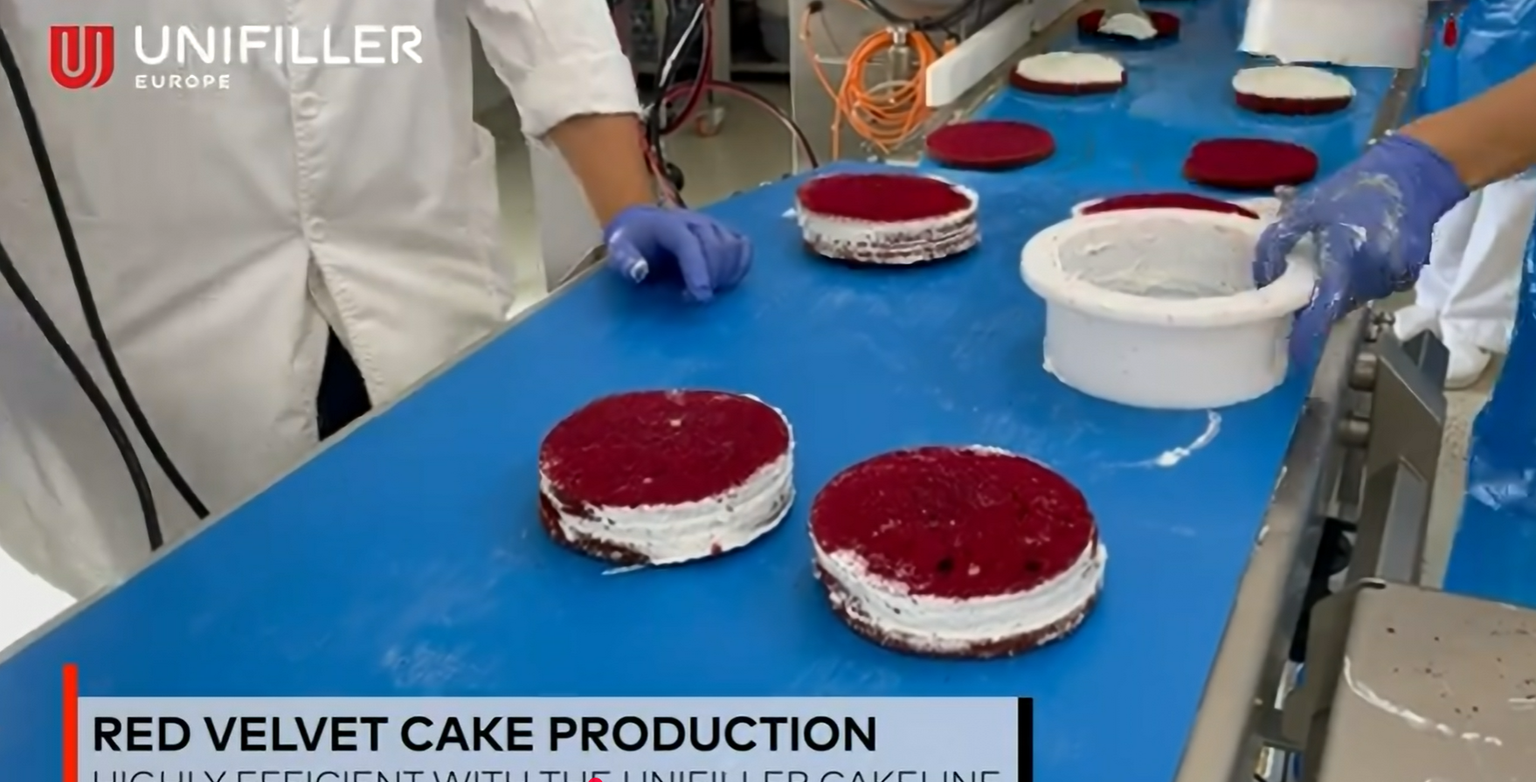Red Velvet: (808, 442, 1105, 659), (536, 385, 796, 561), (795, 170, 979, 267), (1183, 130, 1318, 193), (917, 117, 1055, 178)
Whipped Cream: (1230, 64, 1362, 119), (1012, 52, 1135, 96)
